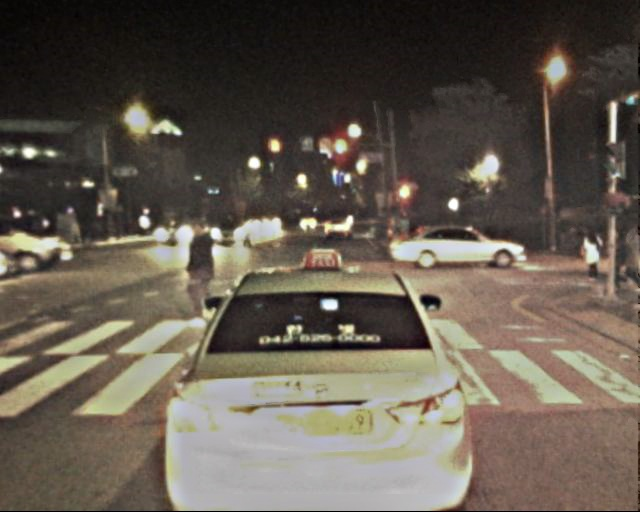person: (177, 218, 221, 326), (578, 225, 604, 288), (603, 227, 629, 290), (620, 225, 640, 296)
